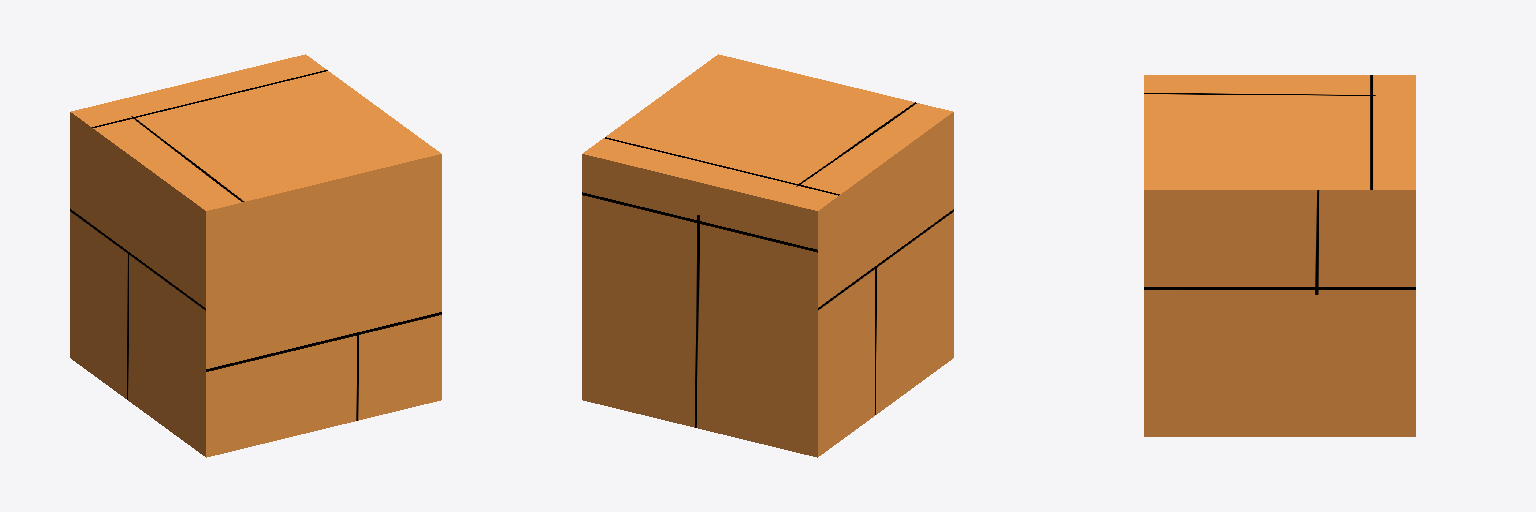
3 renders of one model, left to right at view 1: azimuth 30°, elevation 25°; view 2: azimuth 150°, elevation 25°; view 3: azimuth 270°, elevation 25°, orthographic.
Visible parts, largest first — view 1: Cube.003; view 2: Cube.003; view 3: Cube.003.
Boxes of the visible parts, <box> form: Cube.003: <box>70,54,441,457</box>; Cube.003: <box>582,54,953,457</box>; Cube.003: <box>1144,75,1415,436</box>.
Bounding box in the file's own units: 2 × 2 × 2.
Materials: 1 (1 with a texture image).